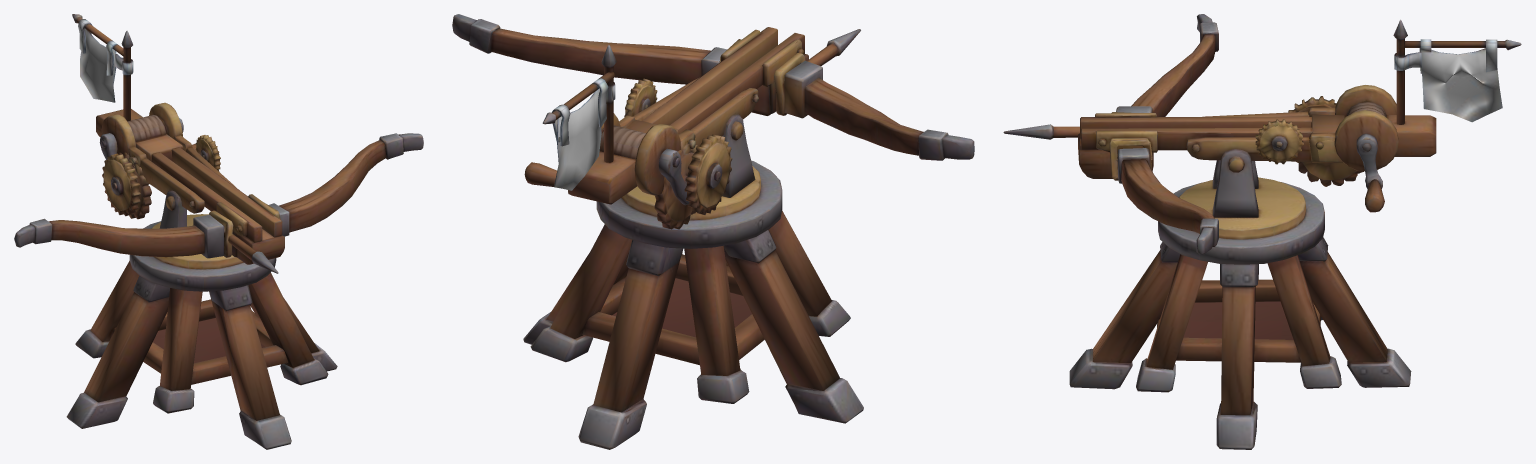
File: ballista.glb
The picture shows the model from 3 angles, left to right: view 1: azimuth 30°, elevation 25°; view 2: azimuth 150°, elevation 25°; view 3: azimuth 270°, elevation 25°; orthographic projection. The views are drawn at different scales.
Visible parts, largest first — view 1: ballista_base, ballista_turret; view 2: ballista_base, ballista_turret; view 3: ballista_base, ballista_turret.
Part boxes in pixels (x1,y1,x2,y2): ballista_base: (66,214,337,449); ballista_turret: (14,14,423,273); ballista_base: (523,160,863,449); ballista_turret: (452,14,974,229); ballista_base: (1069,177,1411,449); ballista_turret: (1003,14,1521,254).
Size of the model in its own units: 2.74 by 2.02 by 2.65.
Materials: 2 (2 with a texture image).
